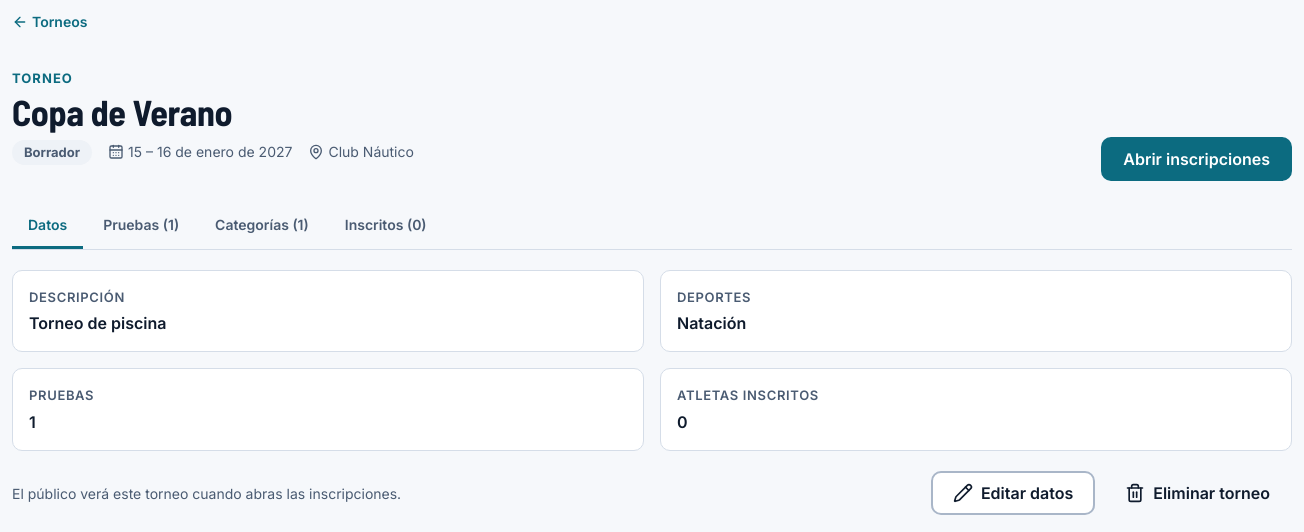
TorneoDetallePage › lista pruebas y categorías en sus pestañas
The width and height of the screenshot is (1304, 532).
Expected: the heading "Copa de Verano" is shown, [12,90,232,133]
Click the tab "Pruebas (1)" at (141, 226), box [87,204,195,248]
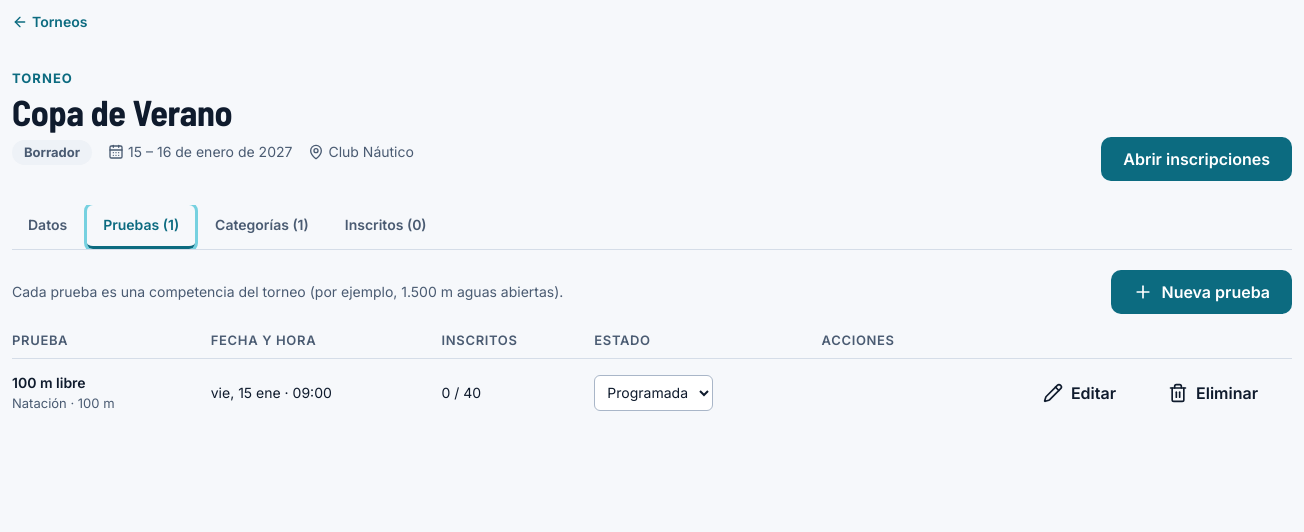
Expected: the table named "Pruebas" shows "100 m libre", [12,374,86,391]
Click the tab "Categorías (1)" at (262, 226), box [199,204,325,248]
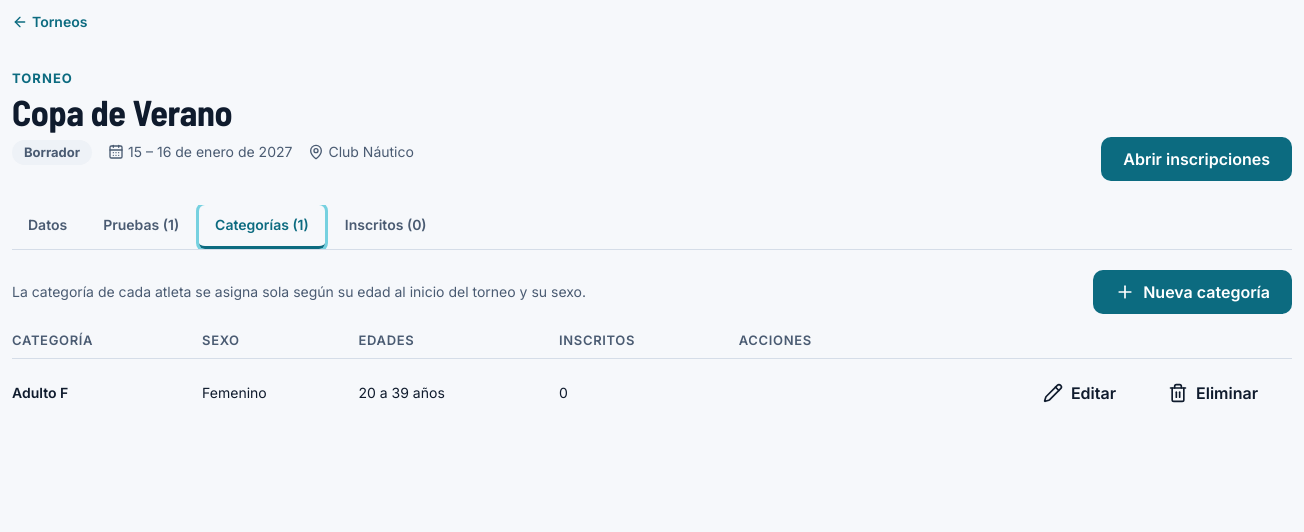
Expected: the table named "Categorías" shows "20 a 39 años", [358,384,445,401]
